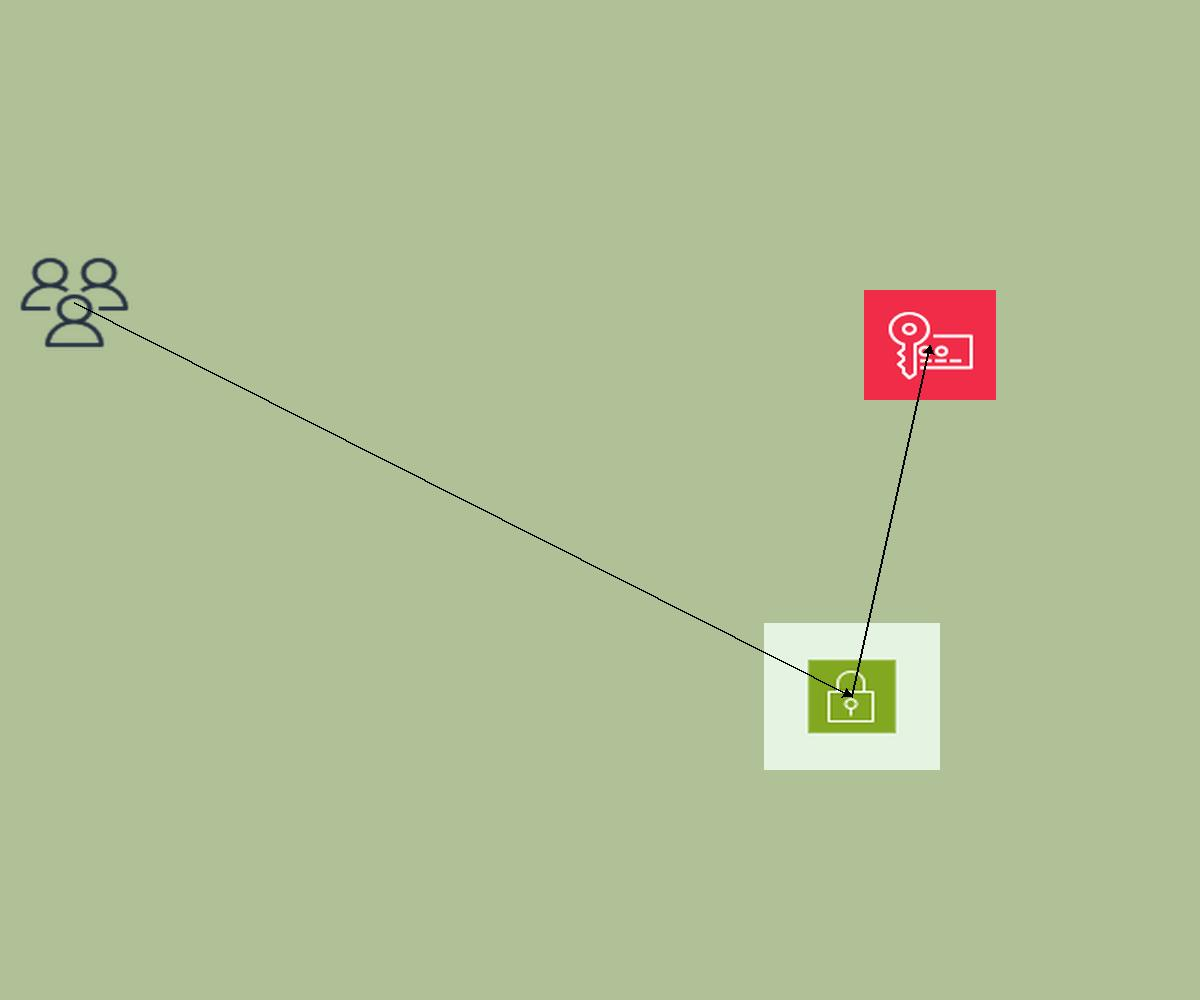AWS-Key-Management-Service: (864, 290, 996, 400)
AWS-Public-subnet: (764, 623, 940, 770)
AWS-Res_Users: (16, 254, 133, 351)
